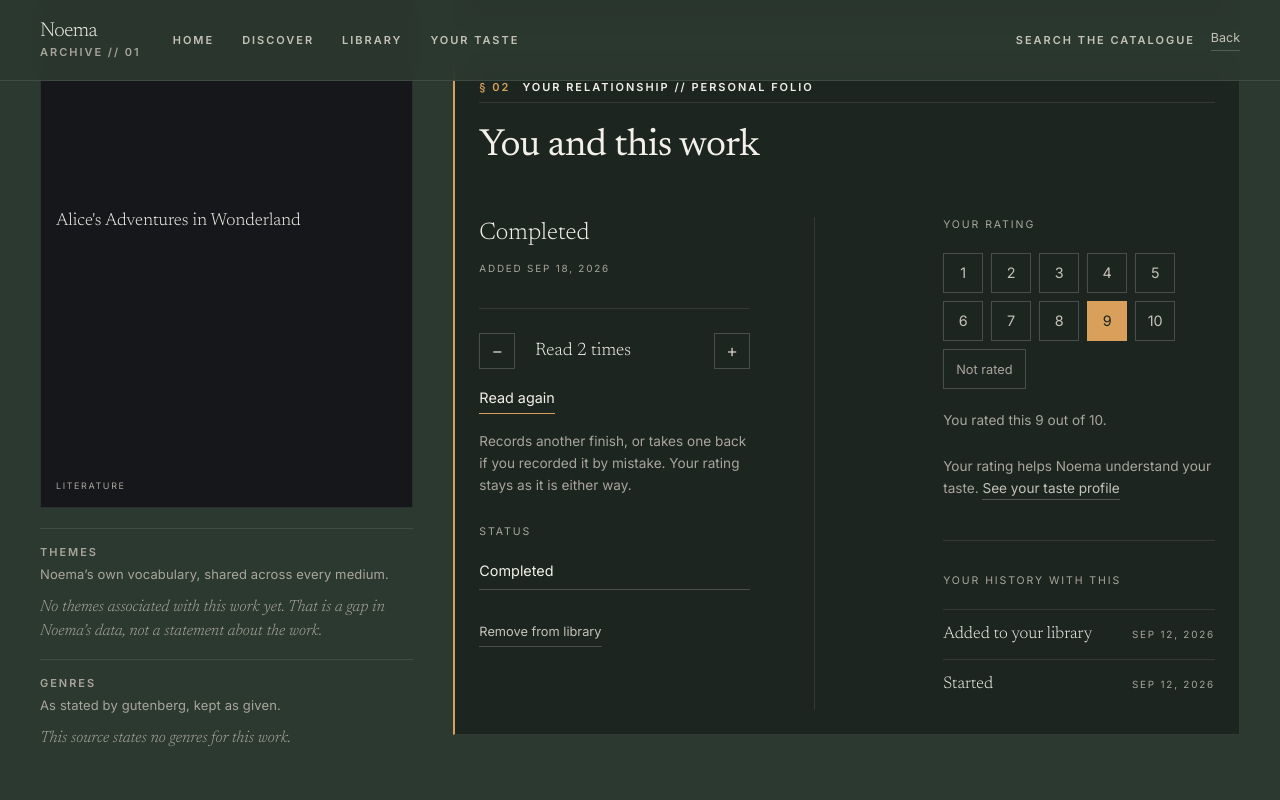
Test: WorkPage › shows the new count after recording one, from the server
(page scrolled)
expect the text "Read 2 times" is shown: met, box x1=535 y1=342 x2=631 y2=360
Click the button "Read again" at [517, 400], box x1=479 y1=387 x2=555 y2=414
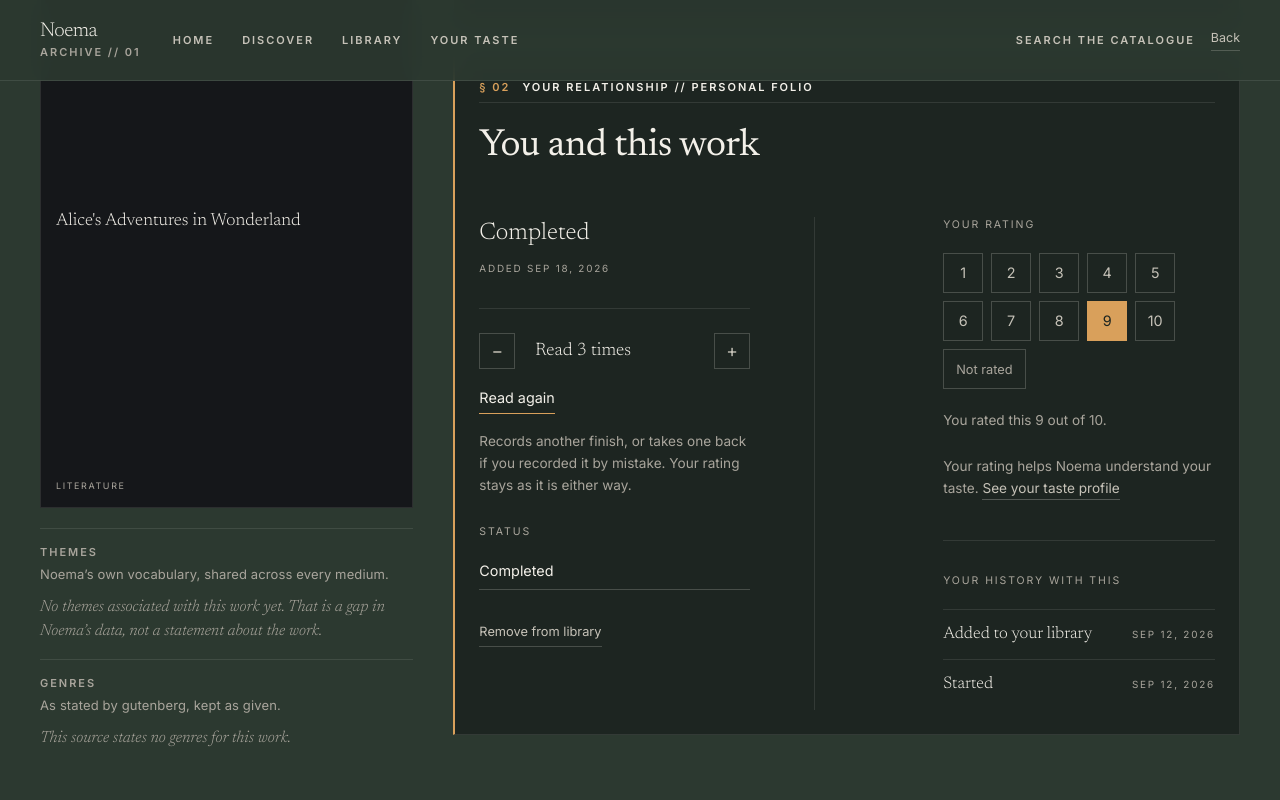
expect the text "Read 3 times" is shown: met, box x1=535 y1=342 x2=631 y2=360
